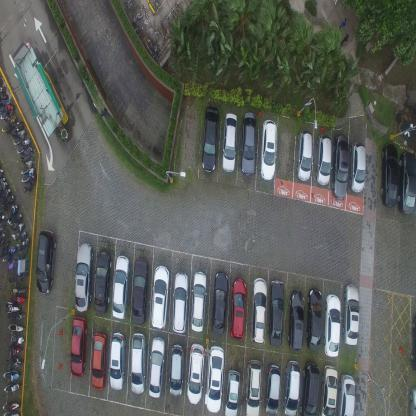car: (204, 343, 226, 413), (109, 252, 130, 321), (74, 240, 94, 312), (35, 229, 57, 294), (148, 263, 169, 331), (330, 132, 350, 200), (92, 248, 112, 315), (210, 269, 229, 337), (130, 255, 148, 326), (170, 268, 189, 335), (380, 141, 399, 208), (249, 276, 268, 343), (201, 104, 219, 174), (398, 148, 416, 217), (147, 335, 166, 400), (323, 293, 342, 358), (341, 281, 360, 346), (68, 314, 87, 378), (259, 118, 278, 182), (186, 340, 205, 404), (268, 278, 285, 347), (189, 269, 207, 334), (129, 330, 147, 395), (229, 275, 247, 340), (287, 288, 305, 352), (240, 110, 257, 177), (108, 329, 126, 392), (300, 360, 320, 415), (306, 286, 322, 352), (263, 361, 282, 416), (244, 357, 262, 415), (282, 359, 300, 415), (221, 111, 237, 173), (295, 127, 313, 182), (90, 330, 106, 391), (348, 140, 366, 194), (168, 341, 184, 401), (320, 364, 338, 416), (315, 132, 332, 186), (222, 367, 240, 415), (338, 372, 356, 416)
